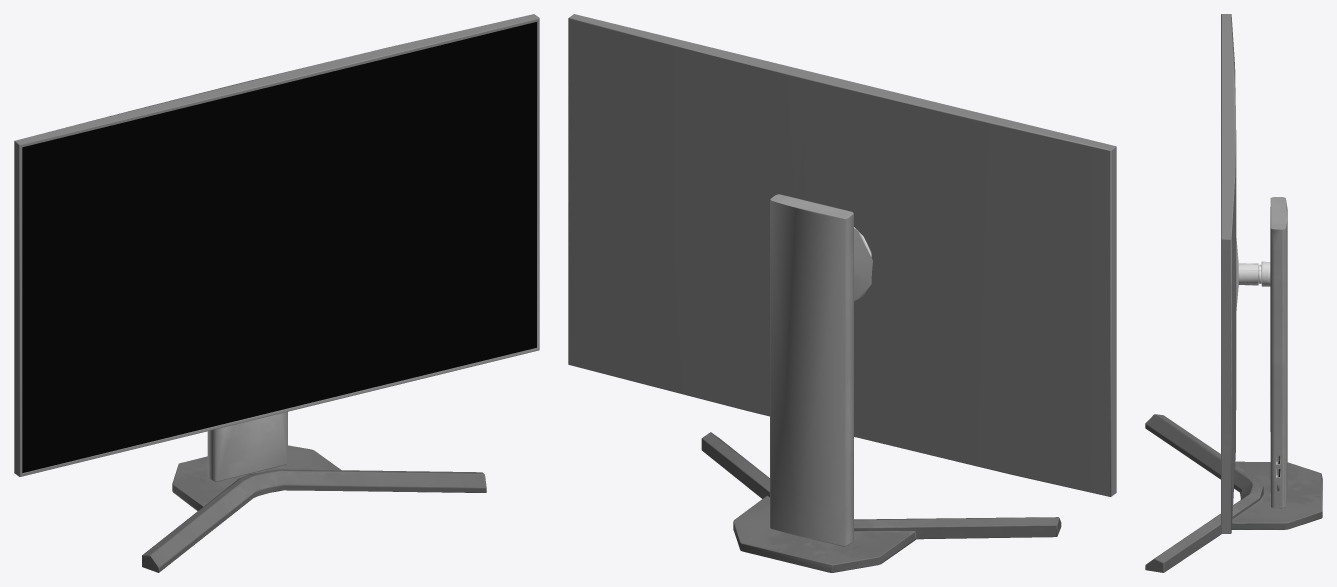
Rendered from mon-asus-va24ehf_lod2.glb.
The picture shows the model from 3 angles, left to right: view 1: azimuth 30°, elevation 25°; view 2: azimuth 150°, elevation 25°; view 3: azimuth 270°, elevation 25°; orthographic projection. The views are drawn at different scales.
Parts seen in each view (by area): view 1: body; view 2: body; view 3: body.
Part boxes in pixels (x1=…): body: x1=14, y1=14, x2=539, y2=572; body: x1=568, y1=14, x2=1116, y2=572; body: x1=1145, y1=14, x2=1322, y2=572.
Bounding box in the file's own units: 0.54 × 0.417 × 0.1798.
Materials: 2 (1 with a texture image).
